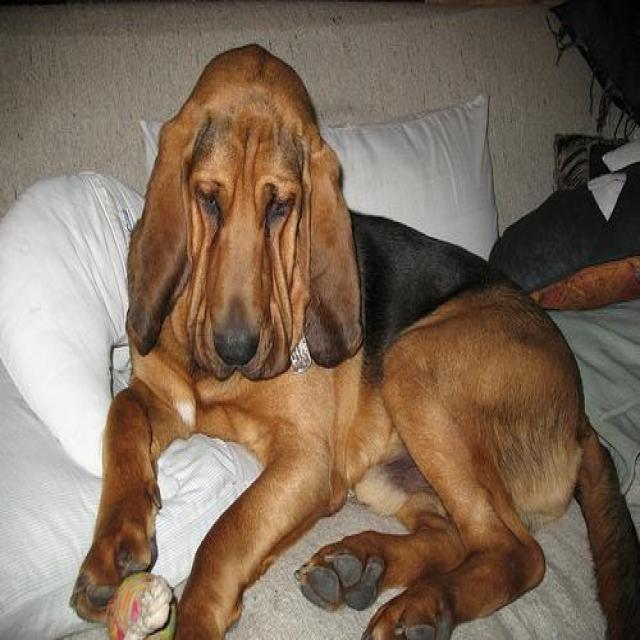bloodhound: (69, 41, 639, 638)
